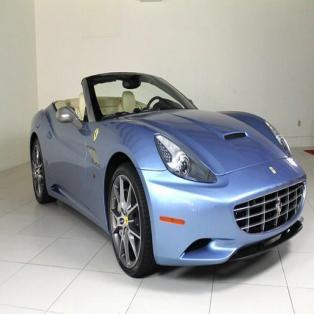Auto: (29, 72, 306, 279)
